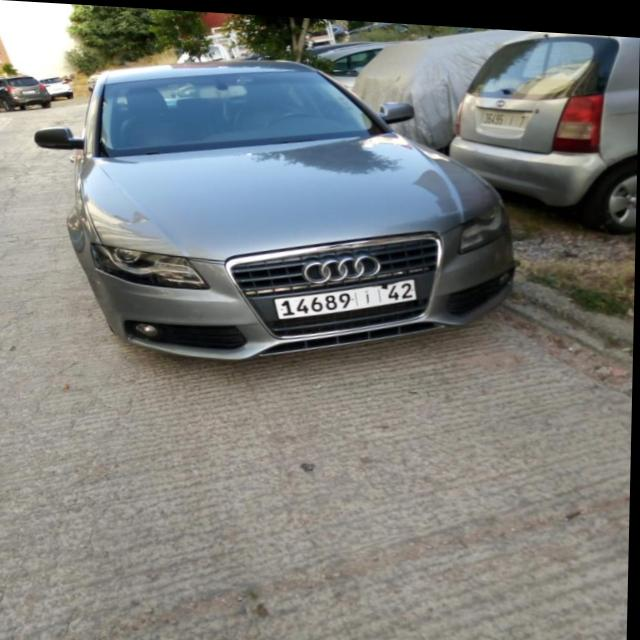License-Plate: (275, 275, 419, 316)
